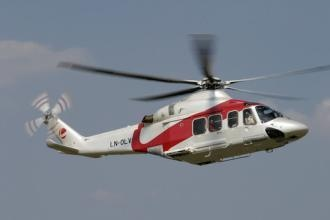airplane: (12, 50, 330, 163)
